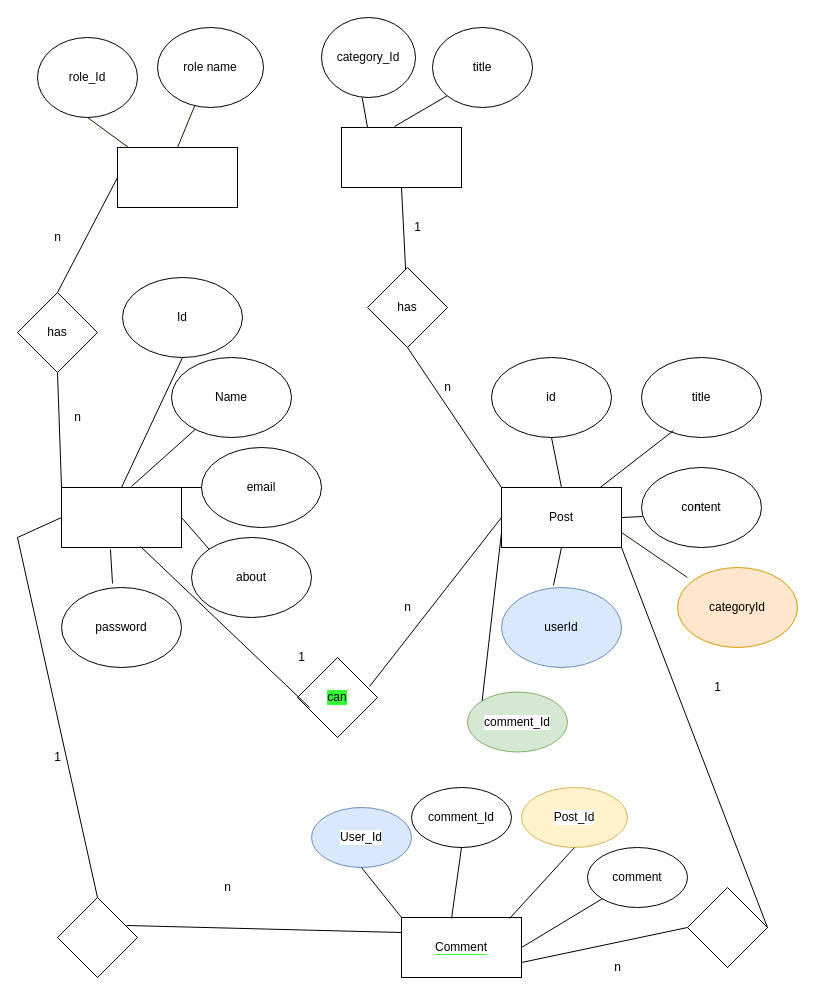
The diagram is 815 pixels wide and 1000 high, and some of its shapes have lost their labels. The centre of each missing label's shape, as x and y in pixels:
"can comment" goes at (x=97, y=937).
"category" goes at (x=401, y=157).
"have" goes at (x=727, y=927).
"Role" goes at (x=177, y=177).
"User" goes at (x=121, y=517).
